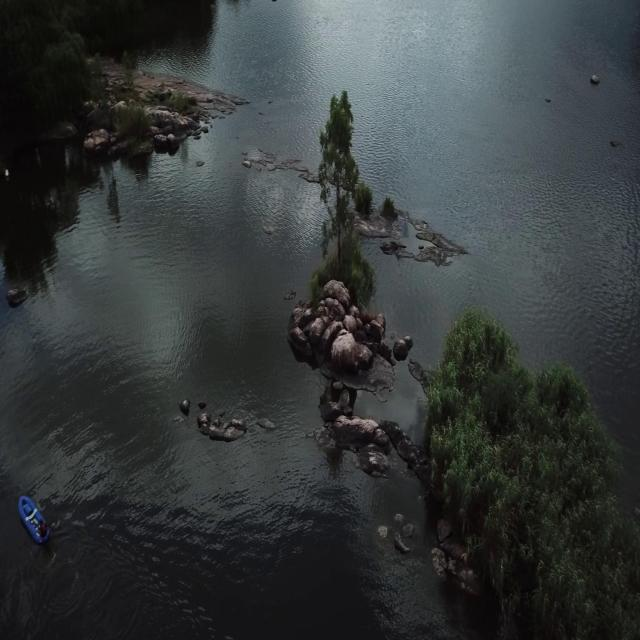kayak: (16, 493, 52, 546)
